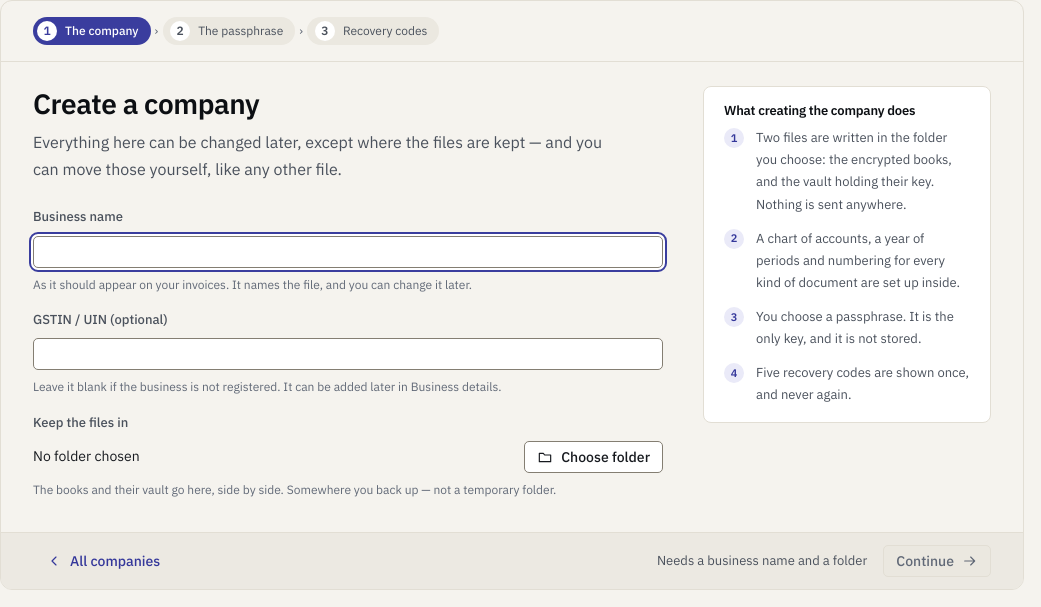
Test: the company step › refuses to continue with an invalid number, and allows it once cleared
Type "  Sharma Traders  " into the field labelled "Business name" at (348, 252), box [33,236,663,268]
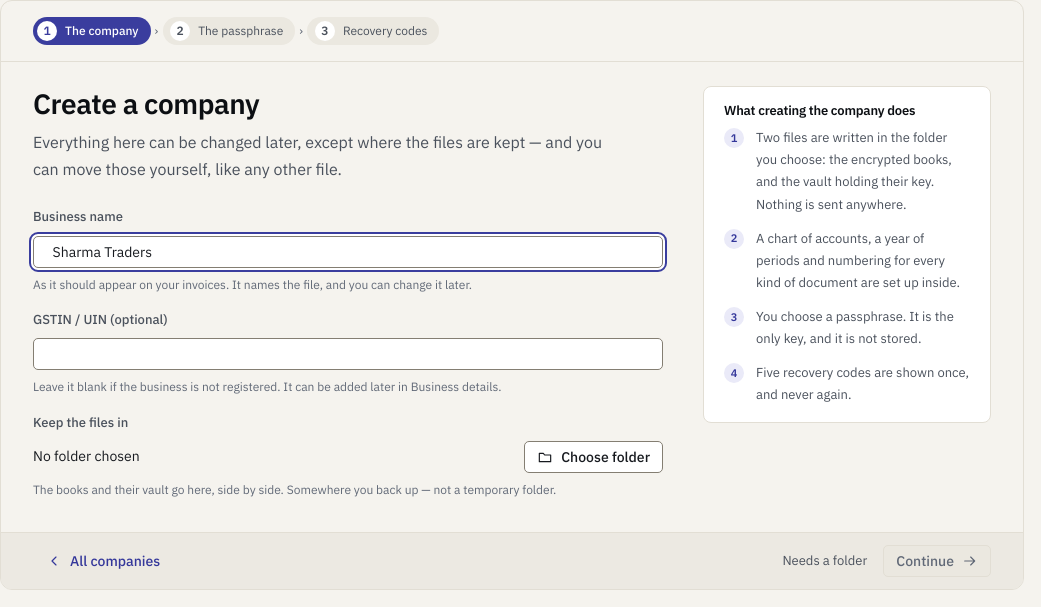
Click the button "Choose folder" at (594, 457), box [524,441,663,473]
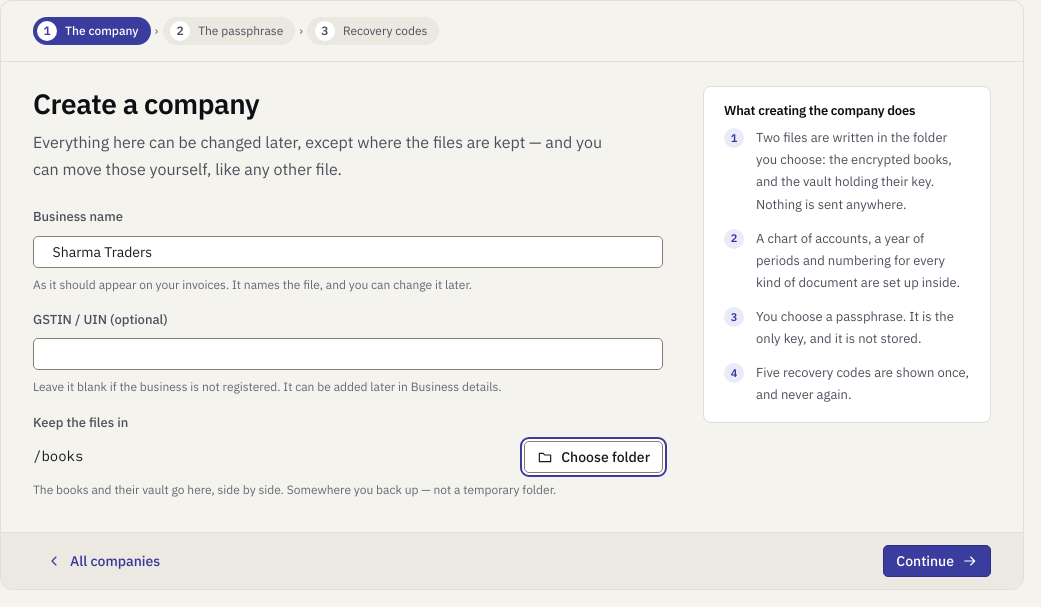
Now the text "/books" is shown, box [33,447,83,465]
Type "33AAB" into the field labelled "GSTIN / UIN (optional)" at (348, 354), box [33,338,663,370]
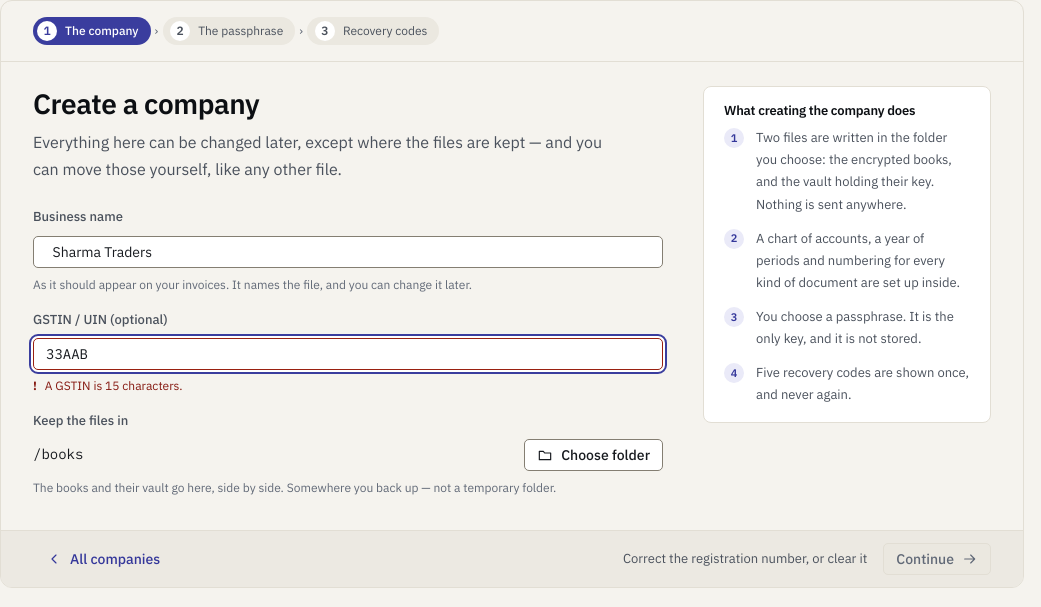
Now the text "A GSTIN is 15 characters." is shown, box [45,378,183,393]
Now the button "Continue" is disabled, box [883,543,991,575]
Clear the field labelled "GSTIN / UIN (optional)" at (348, 354), box [33,338,663,370]
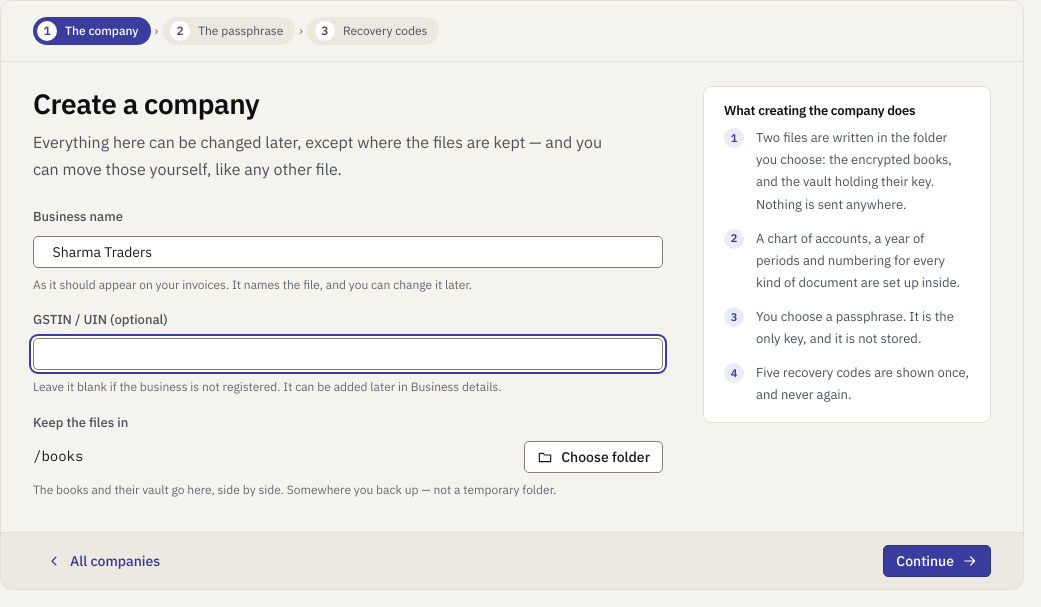
Now the button "Continue" is enabled, box [883,545,991,577]
